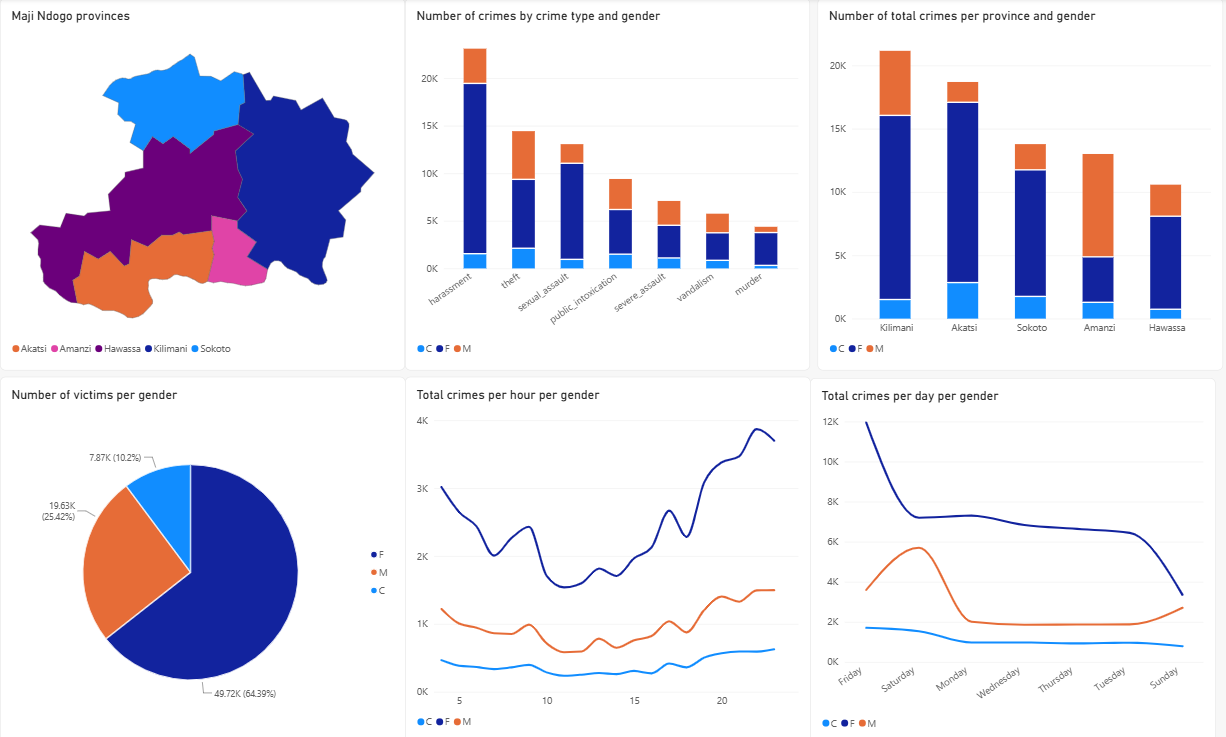

What the dashboard file says about the page in this screenshot:
{"tool":"powerbi","page":{"name":"Crime","canvas":[1920,1080],"ordinal":3},"visuals":[{"type":"shapeMap","title":"Maji Ndogo provinces","fields":{"Category":["location.province_name"],"Series":["location.province_name"]},"box":[0,0,586.6,539.3],"z":0},{"type":"columnChart","title":"Number of crimes by crime type and gender","fields":{"Category":["water_source_related_crime.crime_type"],"Series":["water_source_related_crime.victim_gender"],"Y":["CountNonNull(water_source_related_crime.crime_type)"]},"box":[586.6,0,586.6,539.3],"z":1000},{"type":"pieChart","title":"Number of victims per gender","fields":{"Category":["water_source_related_crime.victim_gender"],"Y":["CountNonNull(water_source_related_crime.victim_gender)"]},"box":[0,549,587,531],"z":2000},{"type":"lineChart","title":"Total crimes per hour per gender","fields":{"Category":["water_source_related_crime.Hour"],"Series":["water_source_related_crime.victim_gender"],"Y":["CountNonNull(water_source_related_crime.Hour)"]},"box":[587,549,587,531],"z":3000},{"type":"columnChart","title":"Number of total crimes per province and gender","fields":{"Category":["location.province_name"],"Series":["water_source_related_crime.victim_gender"],"Y":["Count(water_source_related_crime.crime_id)"]},"box":[1184,0,587,539],"z":4000},{"type":"lineChart","title":"Total crimes per day per gender ","fields":{"Category":["water_source_related_crime.Day Name"],"Series":["water_source_related_crime.victim_gender"],"Y":["CountNonNull(water_source_related_crime.Hour)"]},"box":[1173.2,549.6,587,531],"z":5000}]}

Visuals, with their boxes on the page's 1920x1080 design canvas (x1, y1, x2, y2). These are canvas units, not pixel positions in the 1226x737 screenshot, which may show the page scaled, cropped or inside an application window:
"Maji Ndogo provinces" shapeMap: (0, 0, 587, 539)
"Number of crimes by crime type and gender" columnChart: (587, 0, 1173, 539)
"Number of victims per gender" pieChart: (0, 549, 587, 1080)
"Total crimes per hour per gender" lineChart: (587, 549, 1174, 1080)
"Number of total crimes per province and gender" columnChart: (1184, 0, 1771, 539)
"Total crimes per day per gender " lineChart: (1173, 550, 1760, 1081)
